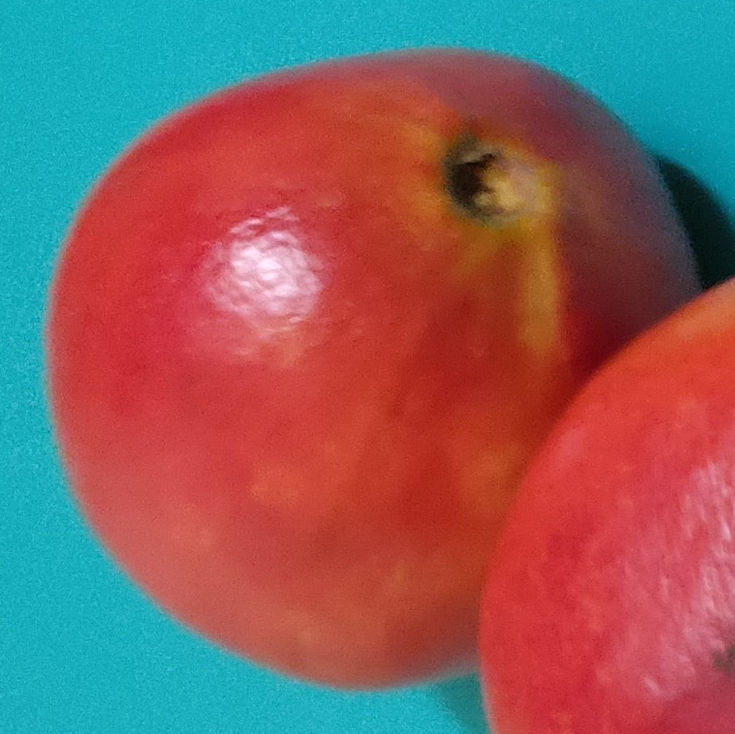pomegranate_A: (47, 48, 707, 693)
